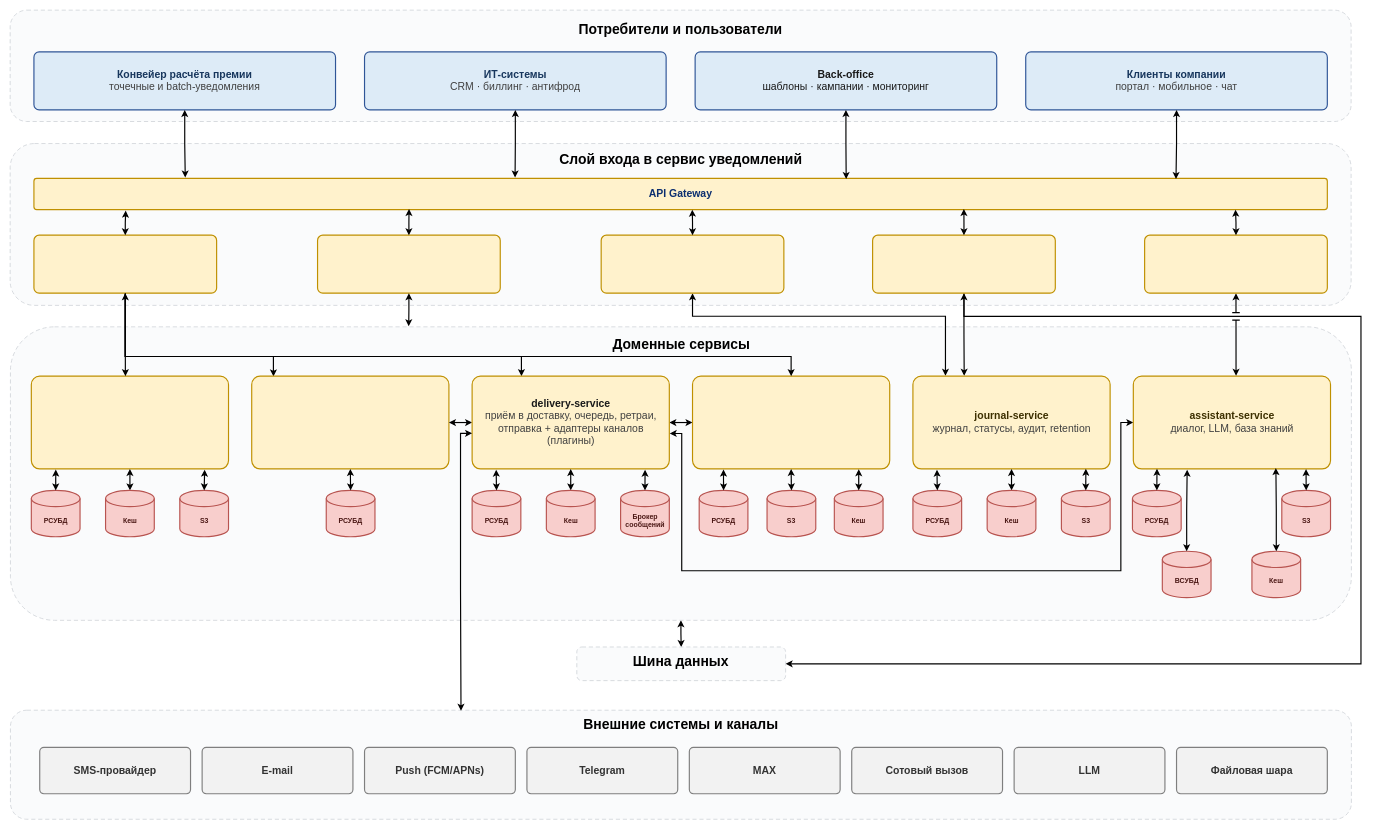
Image size: 1376x830. Some labels were removed from this diagram. The shapes that lost their labels are listed below. From the top down, each one's box as (x1, y1, x2, y2) in pixels, then its label:
(33, 234, 217, 293): Notification API приём point и batch → content · audience · delivery
(317, 234, 501, 293): Admin API BFF back-office → content · config · audience · journal
(600, 234, 784, 293): Query API статусы и история для систем → journal
(872, 234, 1056, 293): Bell Inbox API лента и realtime для клиентов → journal и шина данных
(1144, 234, 1328, 293): Assistant API LLM контексе → assistant
(30, 375, 229, 469): audience-service группы контактов, согласия и лимиты
(251, 375, 449, 469): config-service каналы, провайдеры, квоты, флаги
(692, 375, 890, 469): content-service шаблоны, версии, рендер, файлы и вложения
